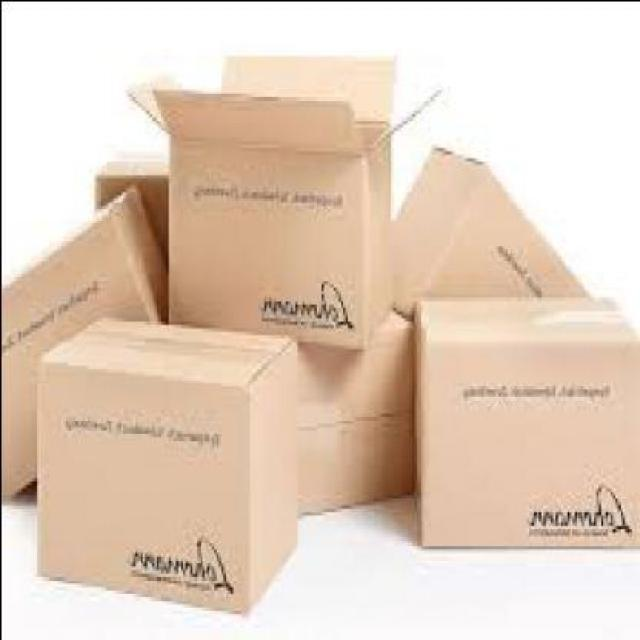box: (126, 51, 442, 348), (35, 311, 303, 609), (416, 293, 639, 550), (3, 177, 166, 497), (394, 140, 591, 325), (299, 300, 416, 518), (96, 143, 170, 320)
